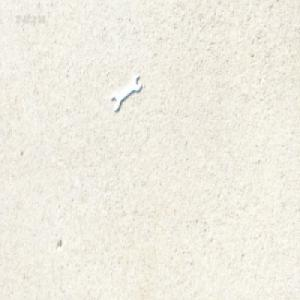Wrench: (111, 74, 142, 111)
